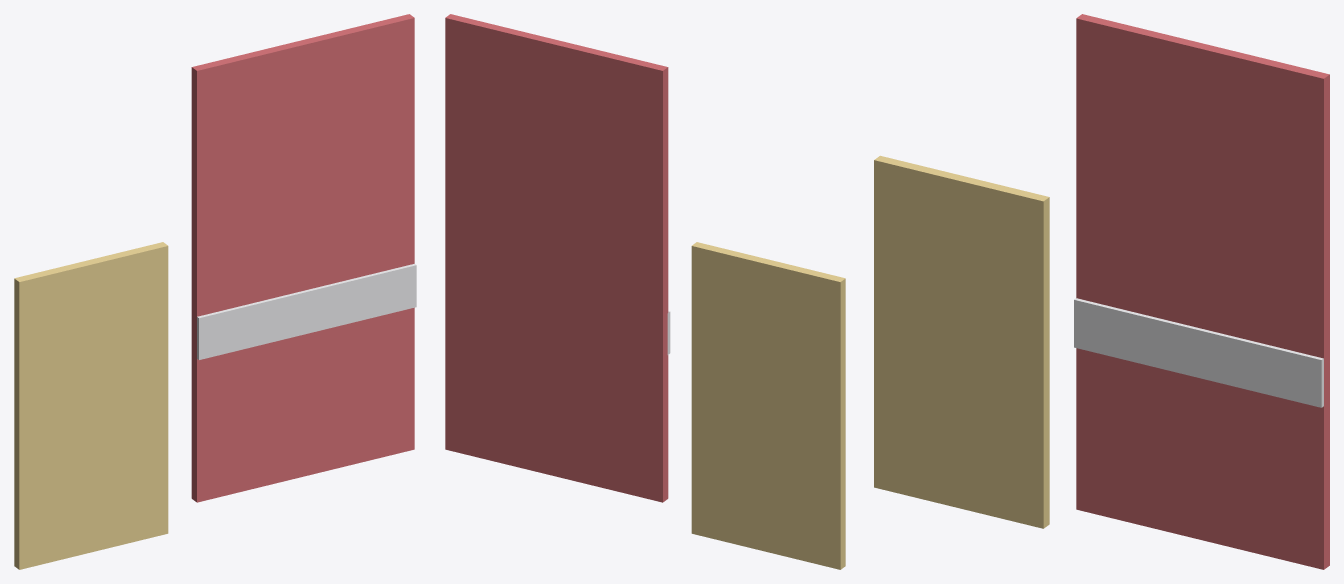
The model's file is toy_boat_sail.glb.
3 renders of one model, left to right at view 1: azimuth 30°, elevation 25°; view 2: azimuth 150°, elevation 25°; view 3: azimuth 330°, elevation 25°, orthographic. The views are drawn at different scales.
Visible parts, largest first — view 1: Mainsail, Jib, Sail stripe; view 2: Mainsail, Jib; view 3: Mainsail, Jib, Sail stripe.
Boxes of the visible parts, x1=… form: Mainsail: x1=191, y1=14, x2=414, y2=502; Jib: x1=14, y1=242, x2=168, y2=569; Sail stripe: x1=197, y1=263, x2=416, y2=359; Mainsail: x1=445, y1=14, x2=668, y2=502; Jib: x1=691, y1=242, x2=845, y2=569; Mainsail: x1=1076, y1=14, x2=1329, y2=569; Jib: x1=874, y1=155, x2=1049, y2=528; Sail stripe: x1=1074, y1=298, x2=1323, y2=407.
Size of the model in its own units: 0.345 by 0.38 by 0.011.
